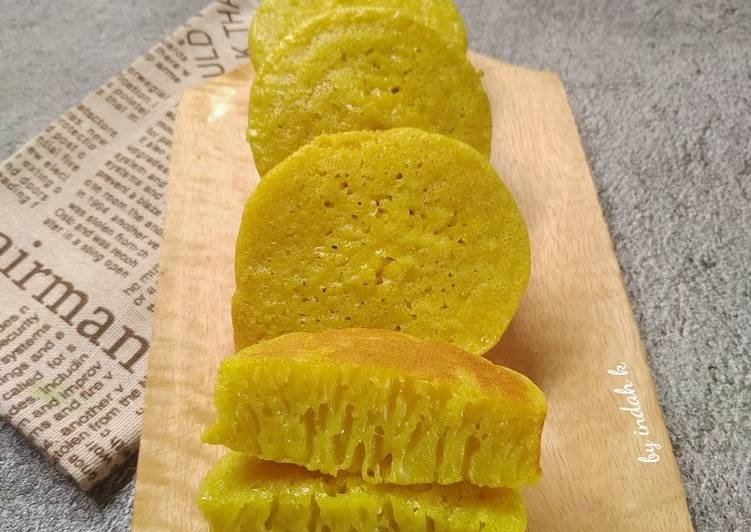bika_ambon: (205, 355, 541, 521)
